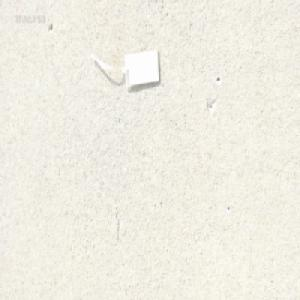LuggageTag: (89, 46, 161, 92)
